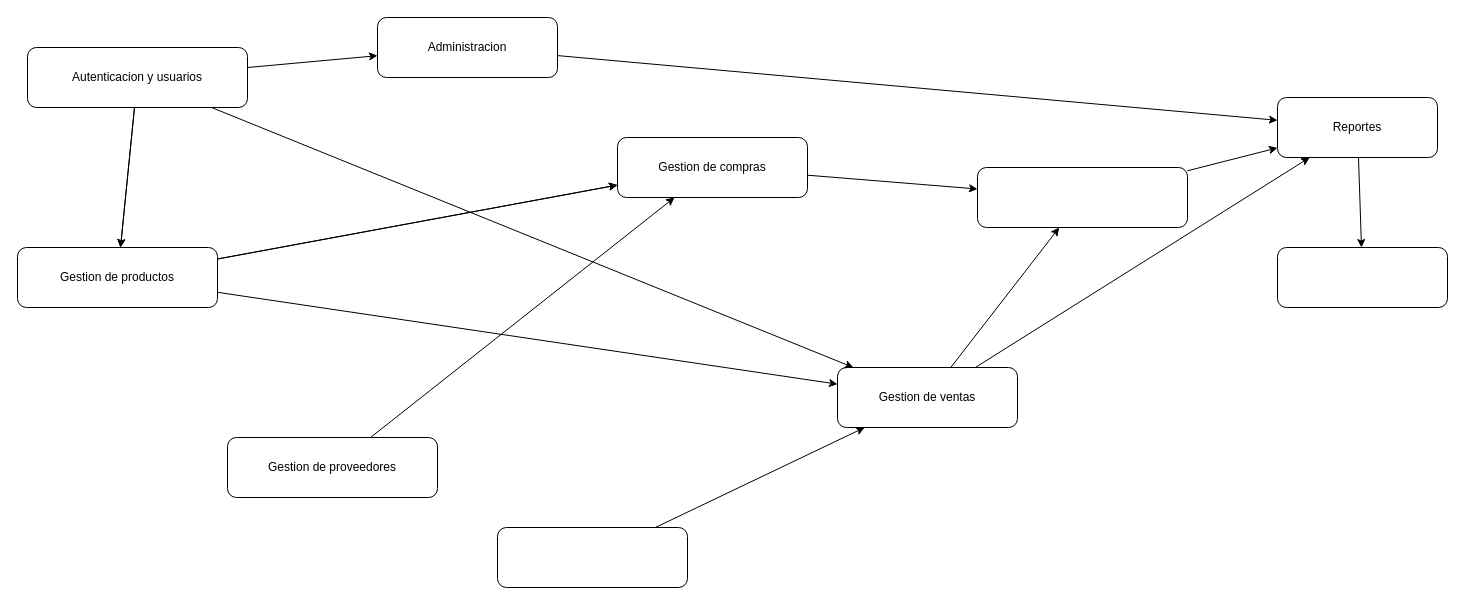
Some shapes in this 1465 by 605 pixel diagram are drawn without their labels. Each missing label, with the centre of its shape:
"Cierre diario" belongs at point 1362,277.
"Gestion de clientes" belongs at point 592,557.
"Gestion de inventario" belongs at point 1082,197.
